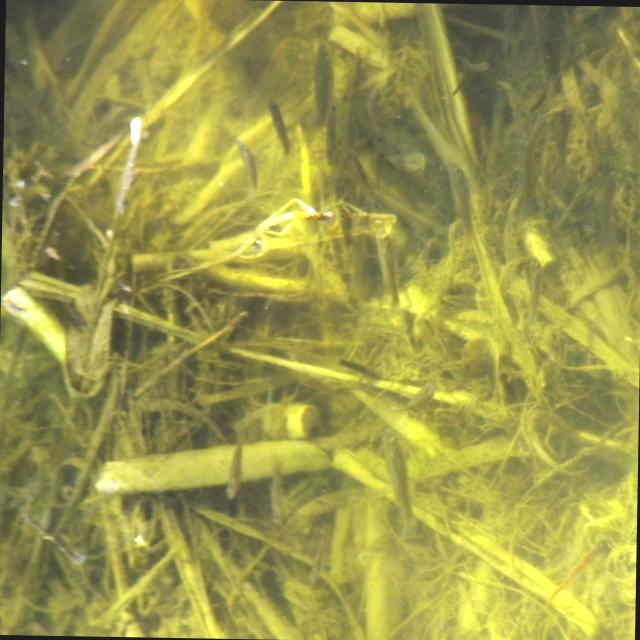Sivrisinek Baligi: (372, 428, 412, 524), (209, 426, 257, 501), (266, 96, 288, 148)
